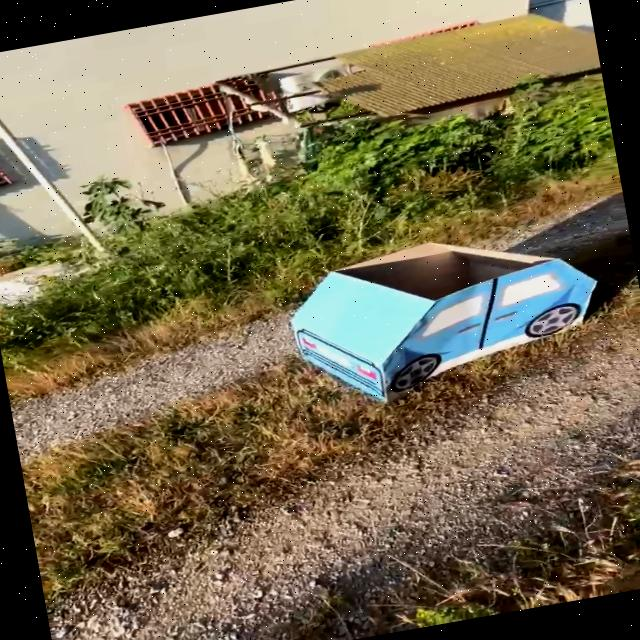blue_car: (225, 193, 640, 443)
